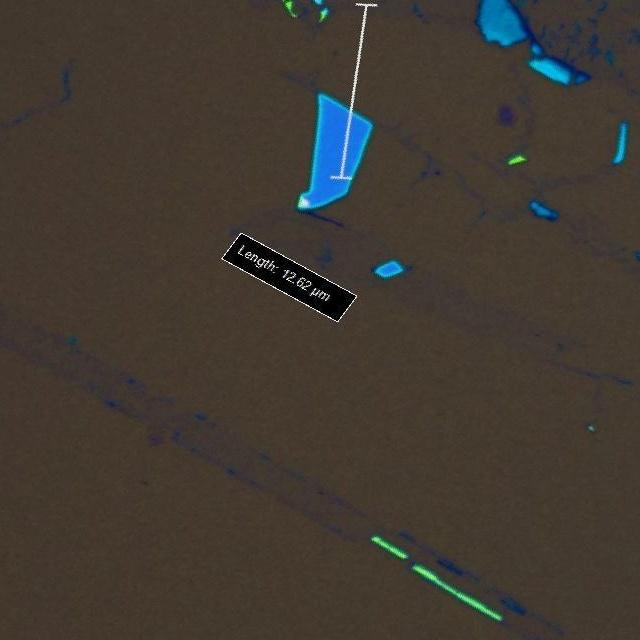monolayer-eWW4: (496, 102, 514, 127)
